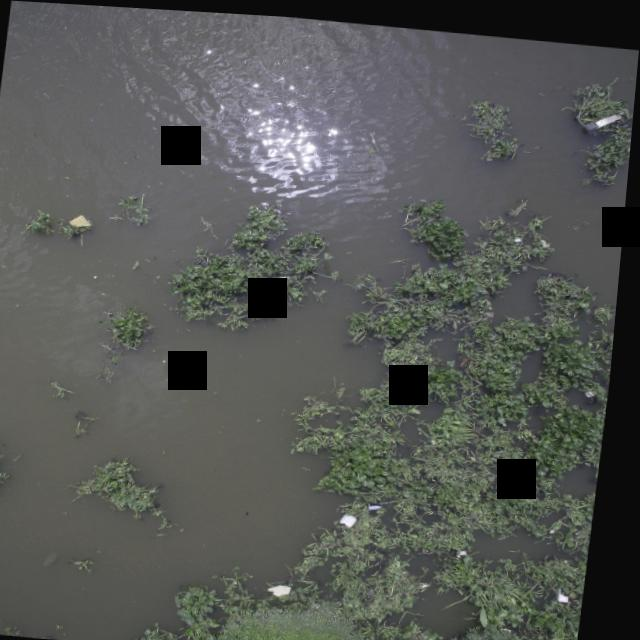plastic: (585, 95, 629, 131), (276, 573, 310, 598), (345, 502, 374, 528), (65, 210, 100, 230), (377, 493, 393, 508), (540, 230, 555, 245), (567, 581, 580, 598), (466, 539, 479, 552), (587, 381, 603, 390), (513, 229, 528, 236), (428, 575, 442, 581)
